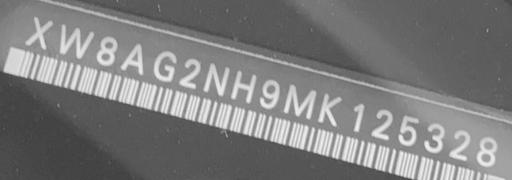letter: (54, 20, 98, 61), (280, 78, 318, 120), (366, 104, 400, 143), (22, 15, 56, 52), (199, 60, 233, 96), (117, 41, 149, 78), (151, 47, 181, 86), (228, 67, 260, 103), (316, 89, 348, 125), (444, 126, 476, 161), (256, 75, 286, 111), (174, 54, 204, 90), (420, 119, 450, 154), (472, 132, 502, 167), (94, 33, 120, 68), (396, 112, 422, 145), (348, 98, 368, 135)
